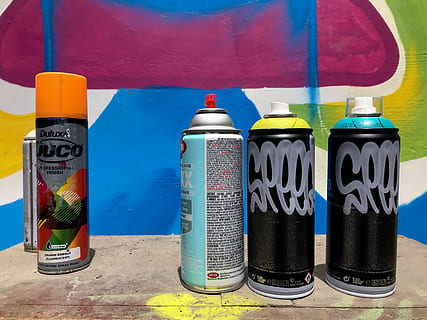Aerosol_cans: (246, 99, 319, 302), (178, 92, 250, 297), (326, 96, 399, 298), (32, 69, 97, 280)
